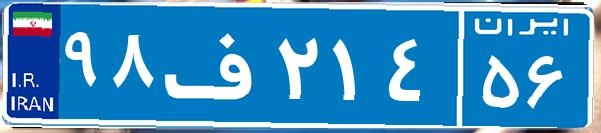1: (330, 28, 385, 110)
2: (273, 28, 330, 110)
4: (385, 28, 445, 110)
5: (475, 38, 525, 113)
6: (525, 38, 570, 115)
8: (110, 28, 158, 105)
9: (57, 26, 110, 107)
ف: (158, 15, 273, 115)
